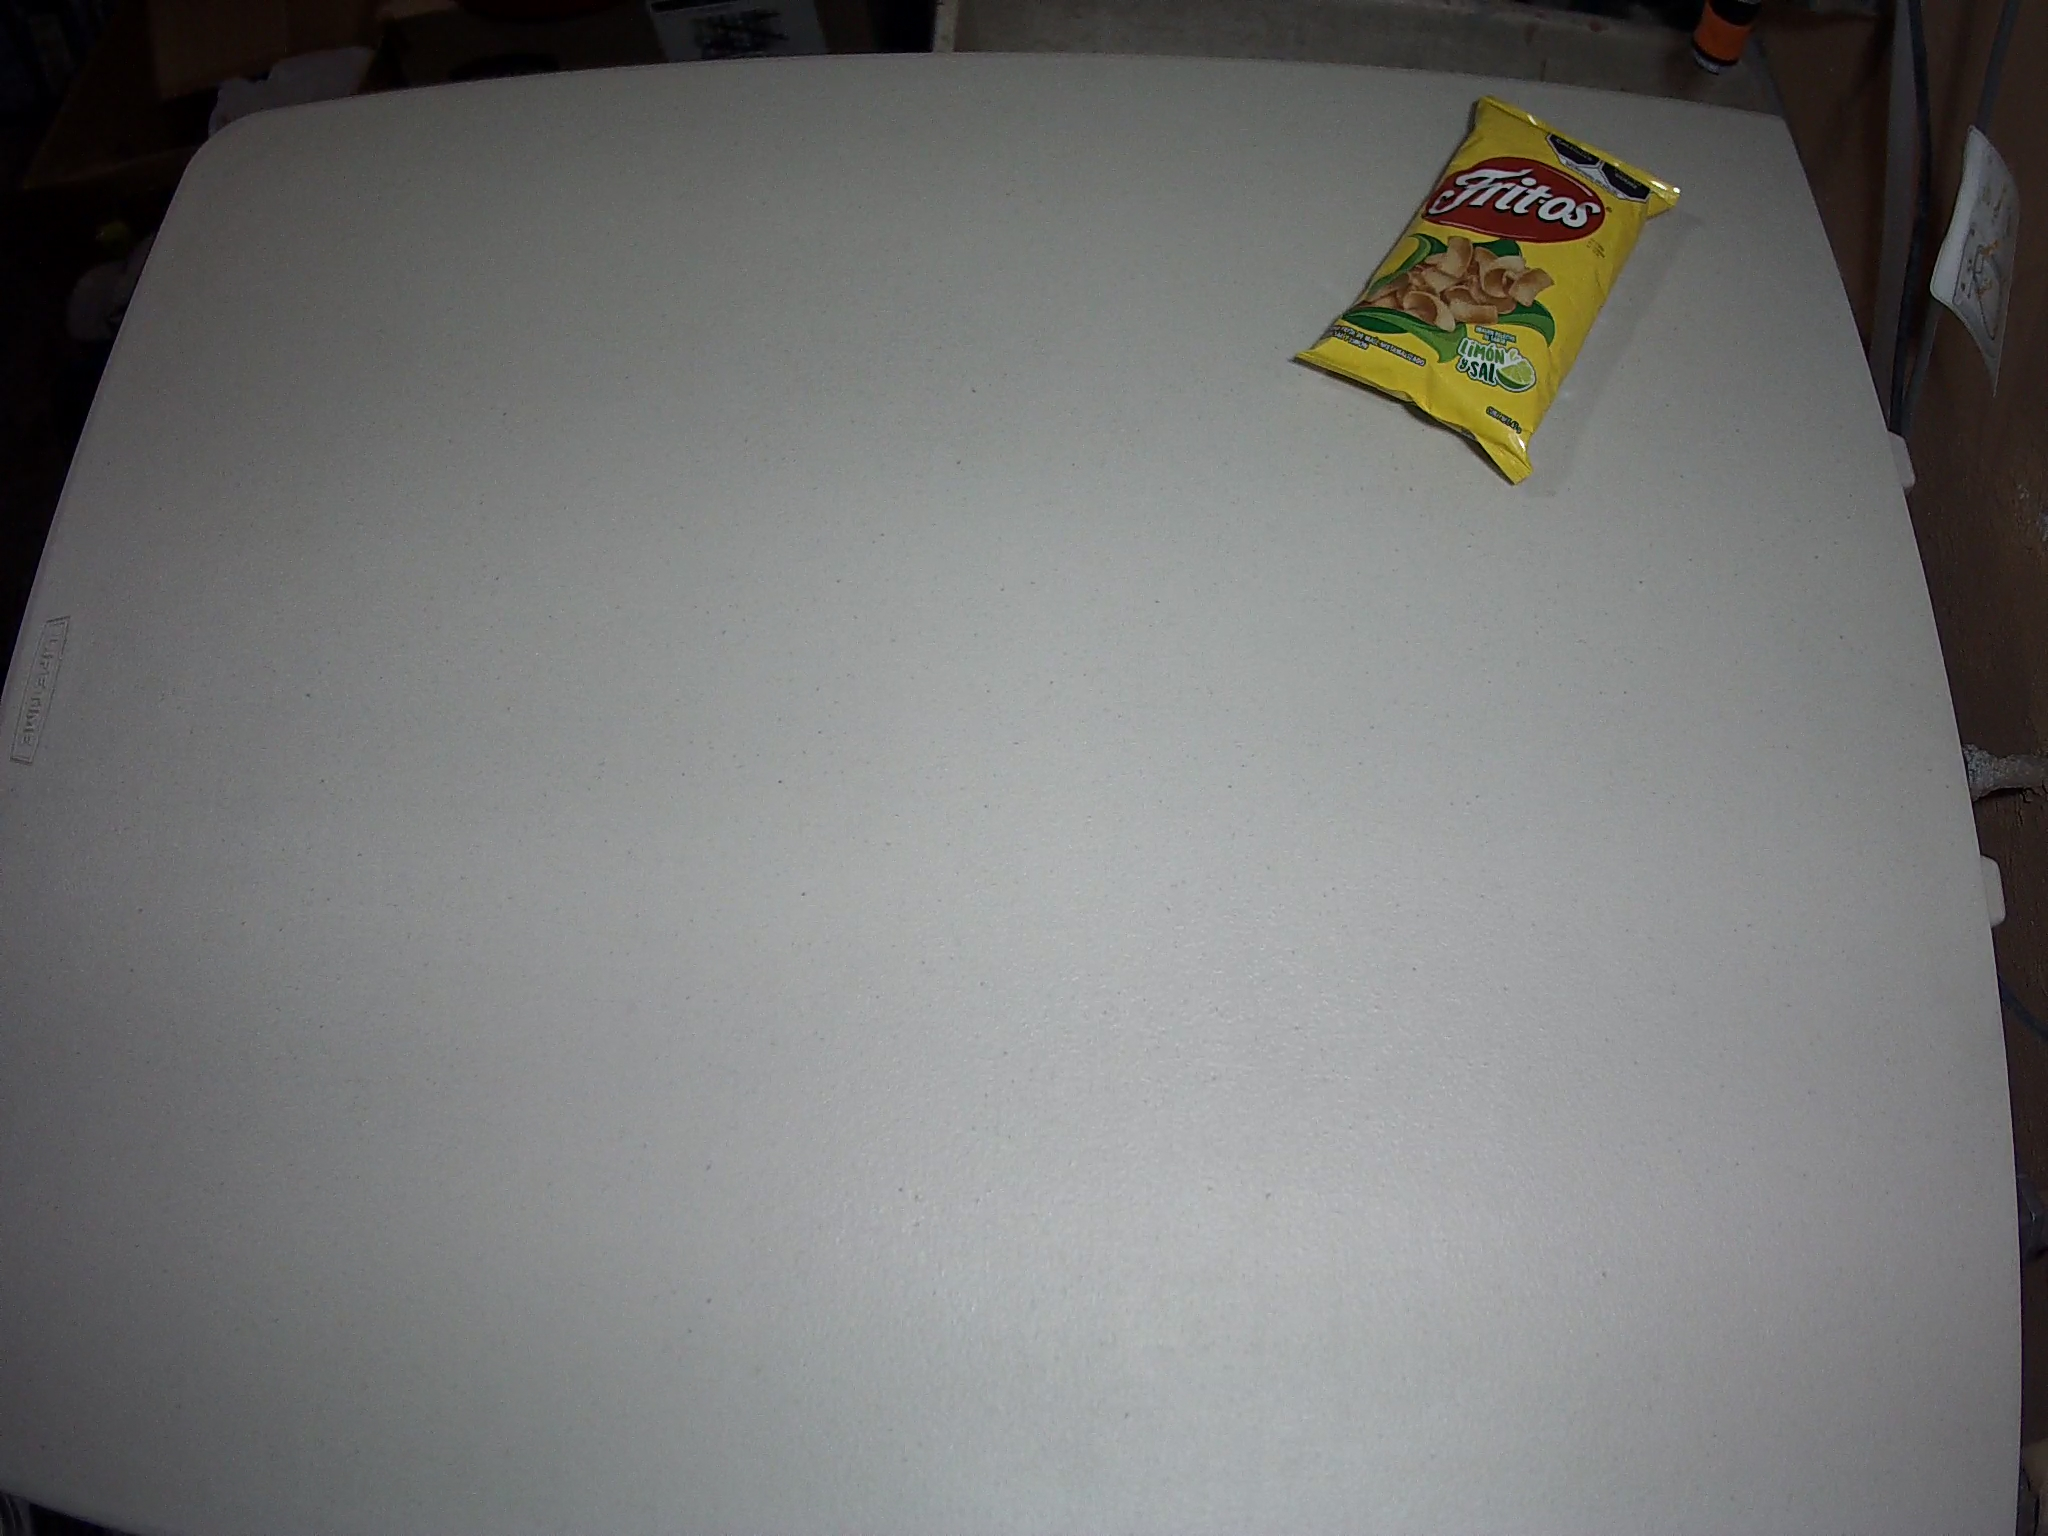FritosSalLimon_65_F: (1290, 97, 1684, 487)
